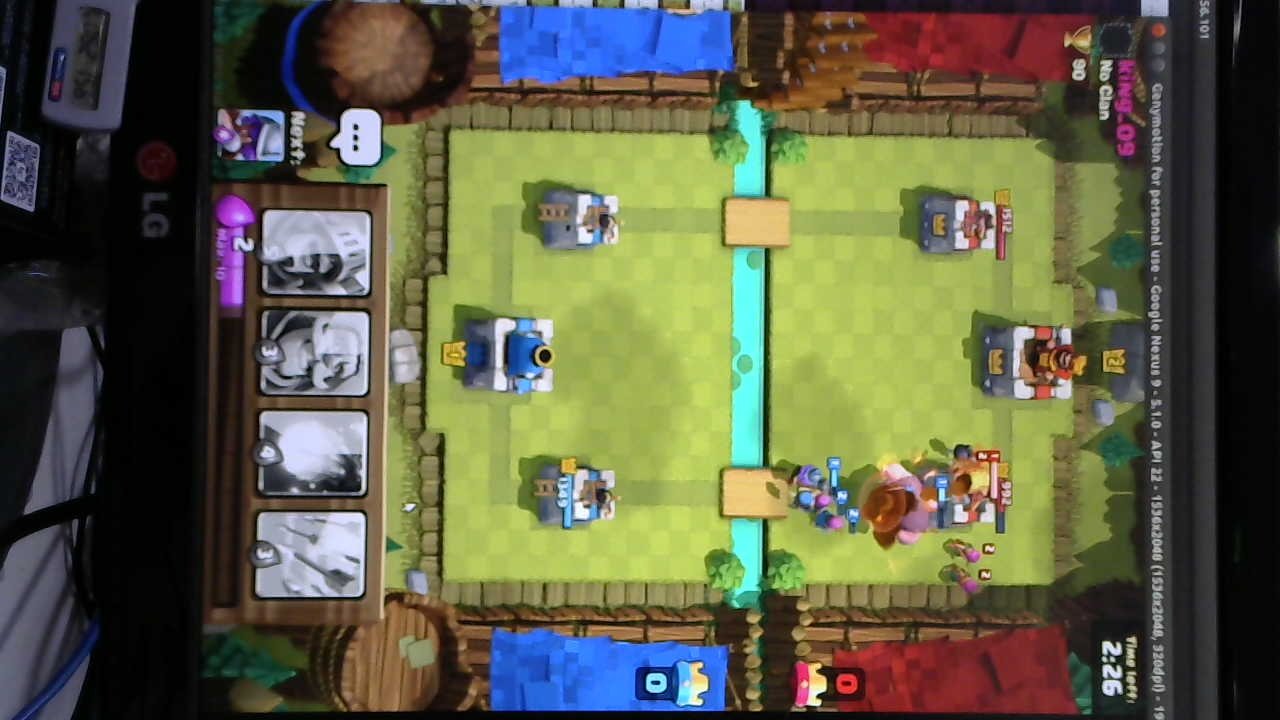archers: (947, 532, 990, 596), (810, 488, 853, 541)
arena: (539, 461, 619, 530), (545, 191, 623, 248)
bomb: (952, 437, 988, 467), (784, 487, 820, 514)
dragon: (944, 464, 998, 505)
earena: (920, 196, 998, 255), (931, 470, 1001, 530)
eking: (980, 319, 1085, 403)
giant: (882, 463, 939, 549)
king: (460, 313, 555, 397)
musketeer: (785, 460, 831, 488)
